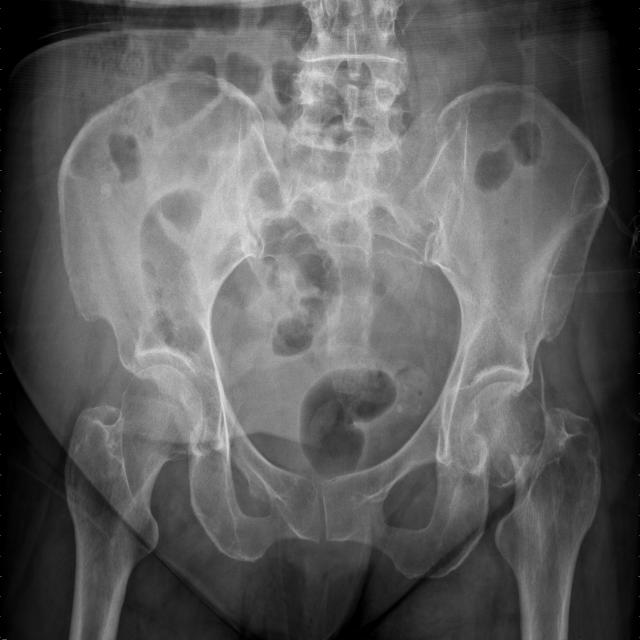left-neck: (495, 408, 601, 640), (461, 381, 552, 487)
normal-right: (65, 365, 203, 640)
